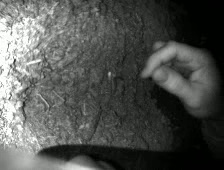corn: (107, 71, 112, 82)
